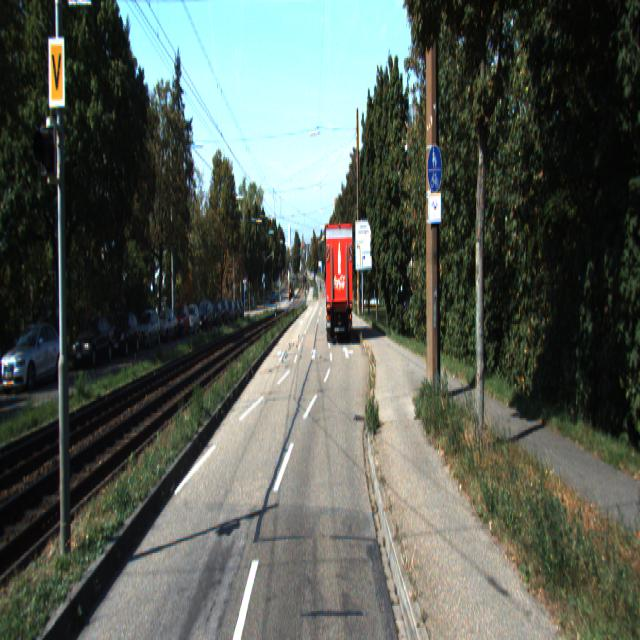Car: (1, 322, 68, 395), (323, 220, 355, 345), (71, 313, 116, 370), (110, 311, 140, 358), (134, 308, 162, 349), (172, 302, 190, 338)
